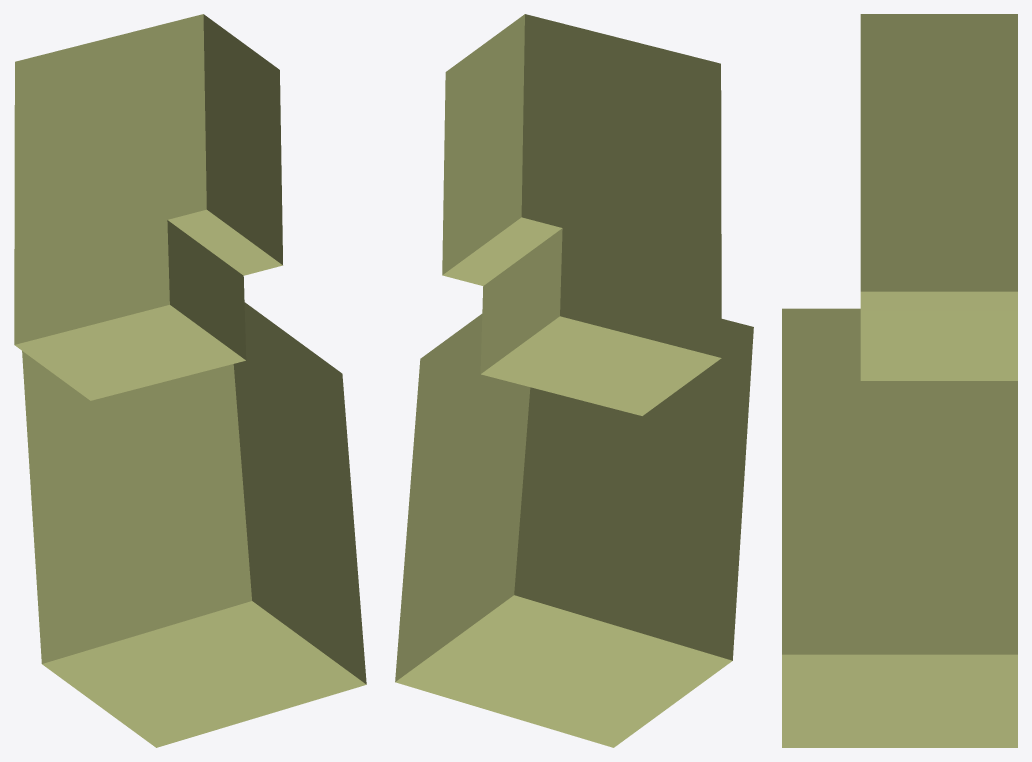
3 renders of one model, left to right at view 1: azimuth 30°, elevation 25°; view 2: azimuth 150°, elevation 25°; view 3: azimuth 270°, elevation 25°, orthographic. The views are drawn at different scales.
Visible parts, largest first — view 1: 0_0_1_1_2_0_3_0_1; view 2: 0_0_1_1_2_0_3_0_1; view 3: 0_0_1_1_2_0_3_0_1.
Part boxes in pixels (x1=…): 0_0_1_1_2_0_3_0_1: x1=14, y1=14, x2=366, y2=747; 0_0_1_1_2_0_3_0_1: x1=395, y1=14, x2=753, y2=747; 0_0_1_1_2_0_3_0_1: x1=782, y1=14, x2=1017, y2=747.
Size of the model in its own units: 10.79 by 26.47 by 9.
